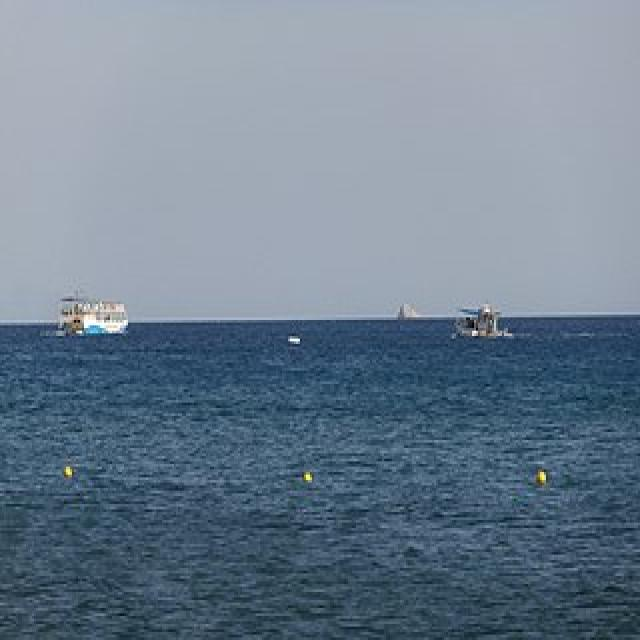buoy: (57, 454, 94, 499), (528, 470, 564, 499), (297, 453, 313, 498)
houseboat: (52, 281, 126, 339)
